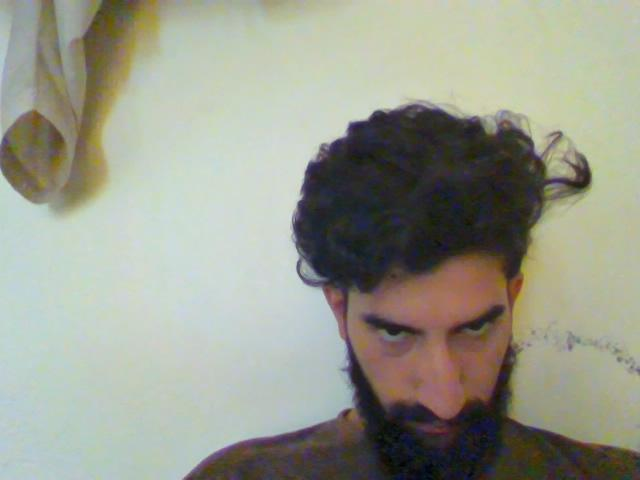hairnetless: (254, 102, 599, 291)
